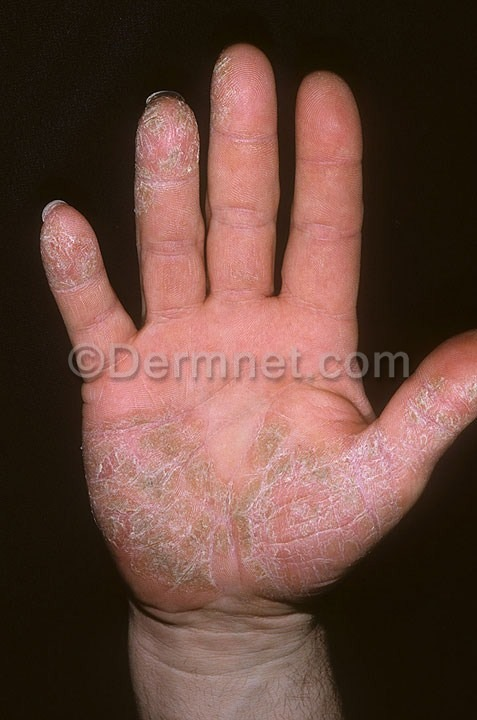Psoriasis: (93, 417, 236, 580), (260, 417, 370, 575), (394, 378, 472, 467), (135, 96, 195, 207), (209, 54, 260, 140), (44, 217, 96, 286)
